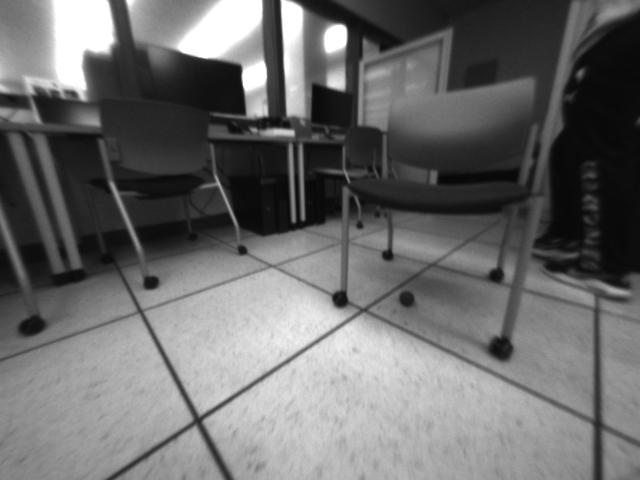dogtoy: (393, 285, 421, 310)
